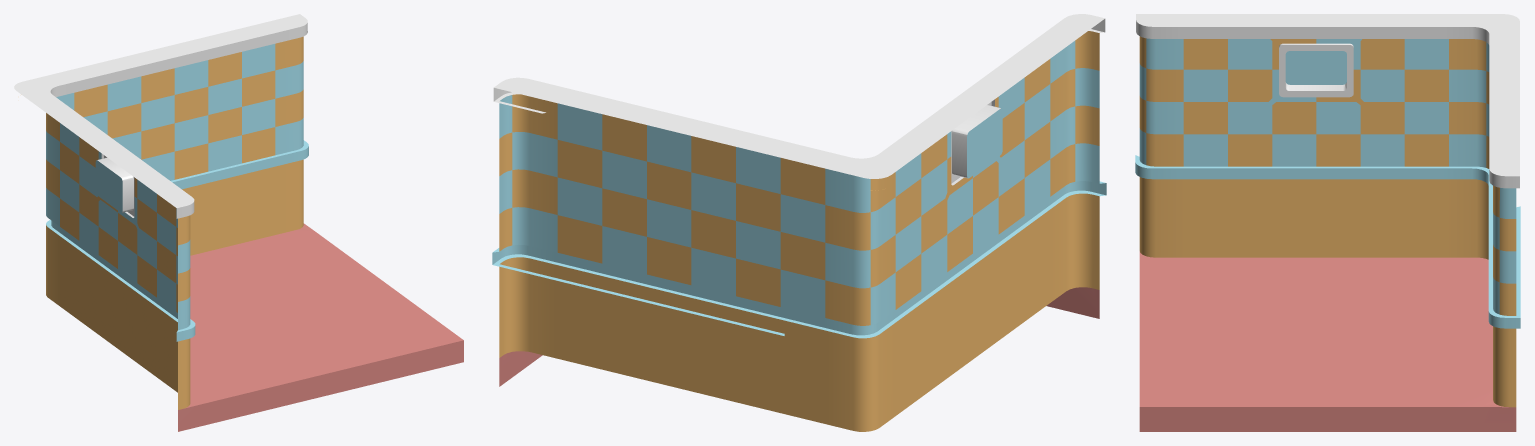
The picture shows the model from 3 angles, left to right: view 1: azimuth 30°, elevation 25°; view 2: azimuth 150°, elevation 25°; view 3: azimuth 270°, elevation 25°; orthographic projection. The views are drawn at different scales.
Parts seen in each view (by area): view 1: 2 base; view 2: 2 base; view 3: 2 base.
Boxes of the visible parts, x1=… form: 2 base: x1=14, y1=14, x2=463, y2=431; 2 base: x1=492, y1=14, x2=1106, y2=431; 2 base: x1=1135, y1=14, x2=1520, y2=431.
Bounding box in the file's own units: 249 × 183 × 249.
